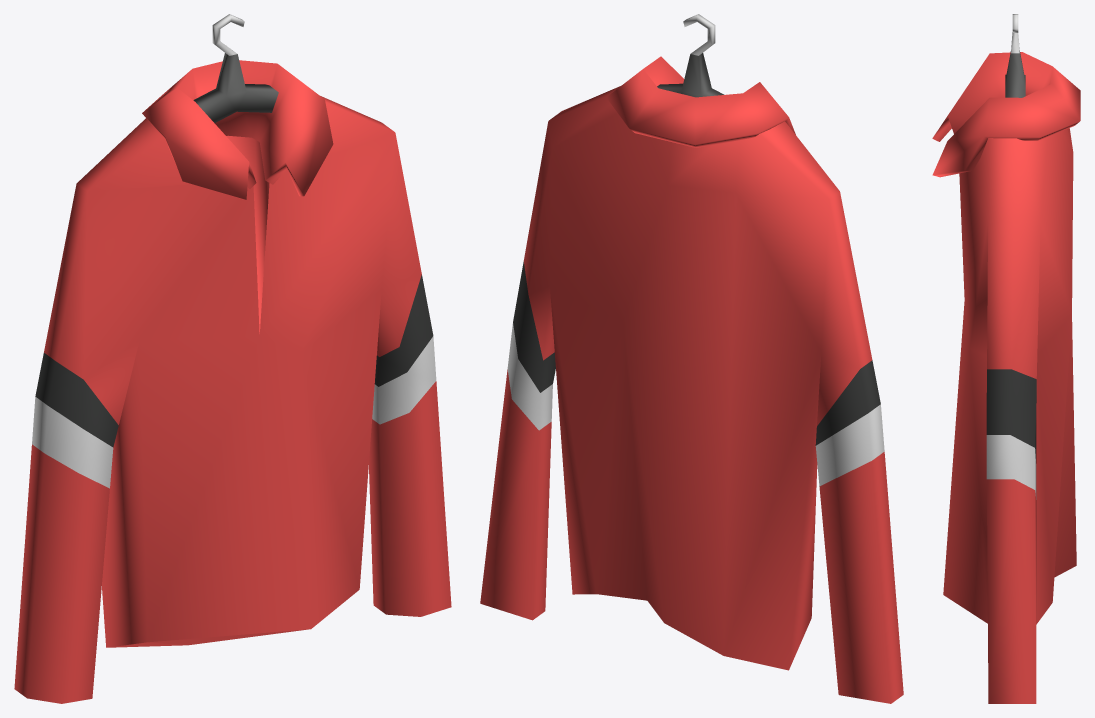
Rendered from SM_clothes_001.FBX.
The picture shows the model from 3 angles, left to right: view 1: azimuth 30°, elevation 25°; view 2: azimuth 150°, elevation 25°; view 3: azimuth 270°, elevation 25°; orthographic projection. The views are drawn at different scales.
Visible parts, largest first — view 1: SM_clothes_001; view 2: SM_clothes_001; view 3: SM_clothes_001.
Part boxes in pixels (x1=…): SM_clothes_001: x1=14, y1=14, x2=451, y2=703; SM_clothes_001: x1=480, y1=14, x2=903, y2=703; SM_clothes_001: x1=932, y1=14, x2=1080, y2=703.
Bounding box in the file's own units: 64.14 × 21.31 × 94.66.
